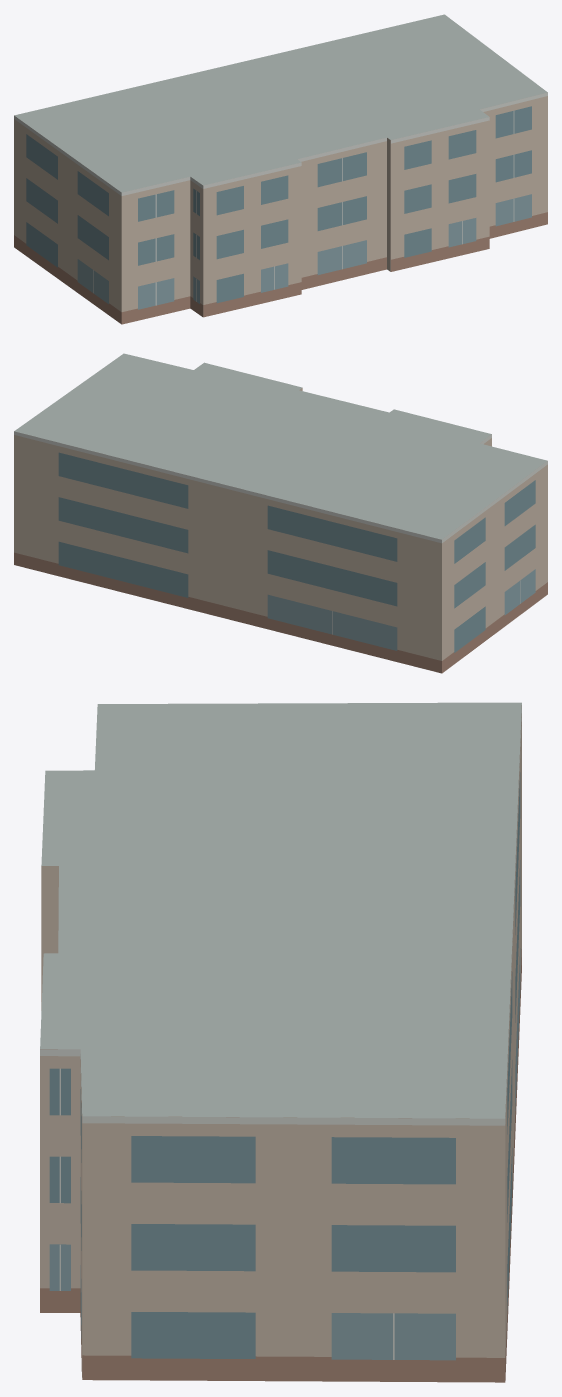
File: survey-upis-32943380.glb
The picture shows the model from 3 angles, top to bottom: view 1: azimuth 30°, elevation 25°; view 2: azimuth 150°, elevation 25°; view 3: azimuth 270°, elevation 25°; orthographic projection. The views are drawn at different scales.
Parts seen in each view (by area): view 1: survey-upis-32943380.tmp; view 2: survey-upis-32943380.tmp; view 3: survey-upis-32943380.tmp.
Boxes of the visible parts, x1,y1,x2,y2 form: survey-upis-32943380.tmp: (14, 14, 547, 324); survey-upis-32943380.tmp: (14, 353, 547, 673); survey-upis-32943380.tmp: (40, 702, 521, 1382).
Size of the model in its own units: 30.97 by 9.15 by 15.16.
